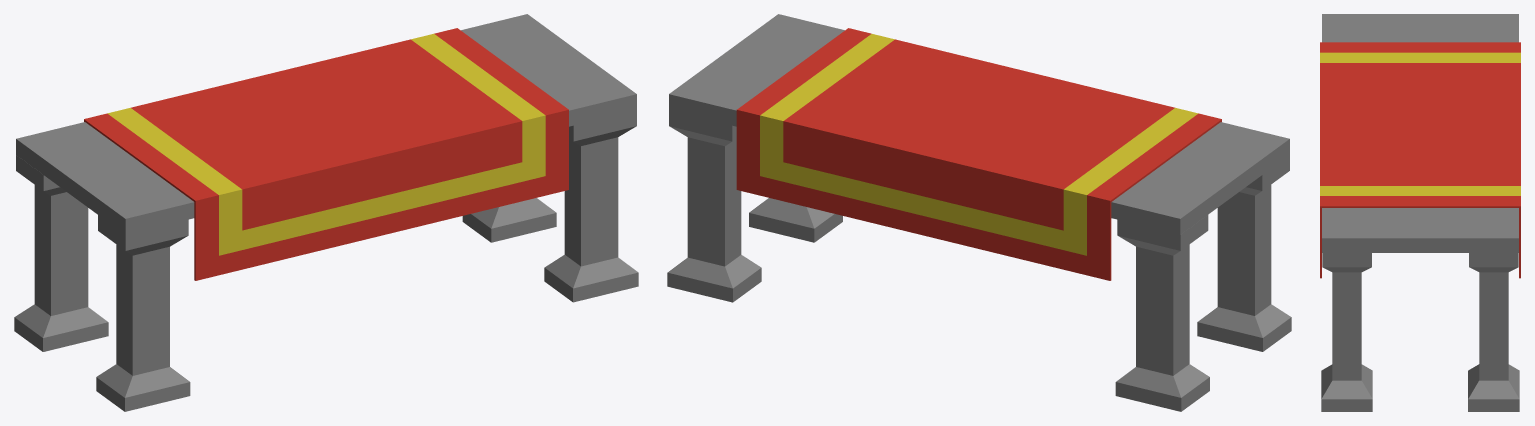
3 views of the same model, side by side, from view 1: azimuth 30°, elevation 25°; view 2: azimuth 150°, elevation 25°; view 3: azimuth 270°, elevation 25° (orthographic). The views are drawn at different scales.
Visible parts, largest first — view 1: node_MeshObject-521174016-PolyPaper22; view 2: node_MeshObject-521174016-PolyPaper22; view 3: node_MeshObject-521174016-PolyPaper22.
Part boxes in pixels (<box>): node_MeshObject-521174016-PolyPaper22: <box>14,14,638,411</box>; node_MeshObject-521174016-PolyPaper22: <box>667,14,1291,411</box>; node_MeshObject-521174016-PolyPaper22: <box>1320,14,1520,411</box>.
Size of the model in its own units: 2.68 by 0.9701 by 1.01.
